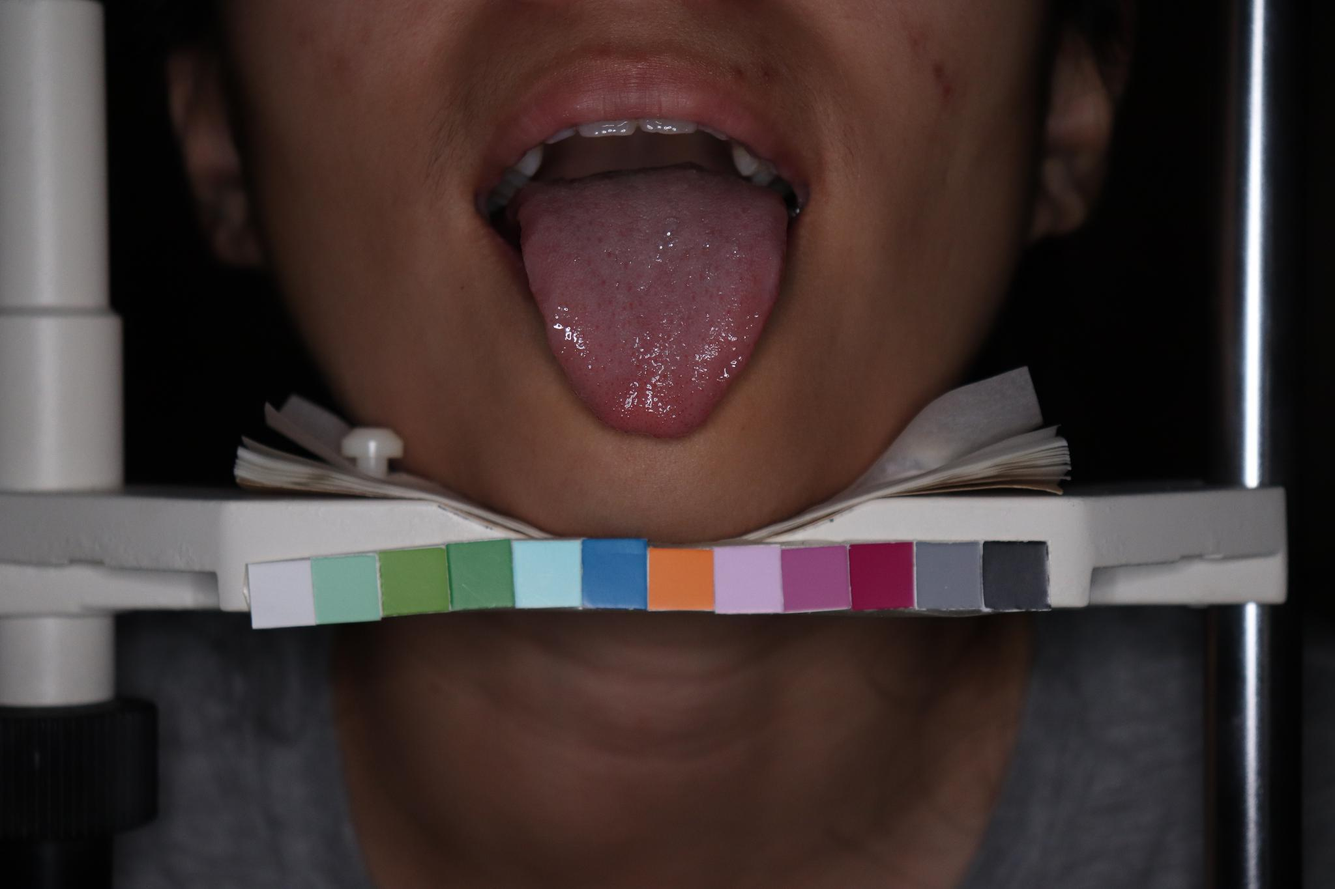baitaishe: (516, 162, 788, 440)
hongdianshe: (624, 282, 632, 293), (602, 398, 610, 408), (604, 248, 611, 259), (593, 323, 600, 333), (599, 362, 606, 371), (594, 380, 601, 389), (724, 310, 732, 317), (627, 301, 634, 309), (606, 356, 614, 363), (677, 372, 684, 379), (688, 388, 694, 396), (682, 352, 688, 359), (688, 400, 694, 407)
